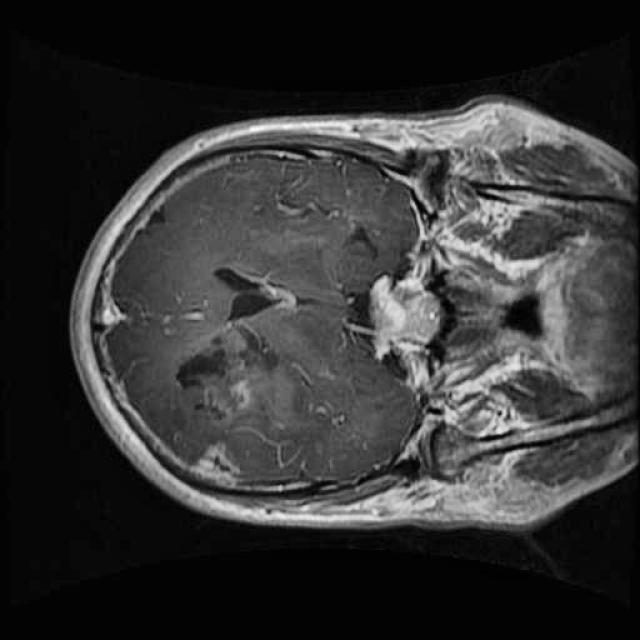Non-Tumor: (166, 319, 320, 441)
